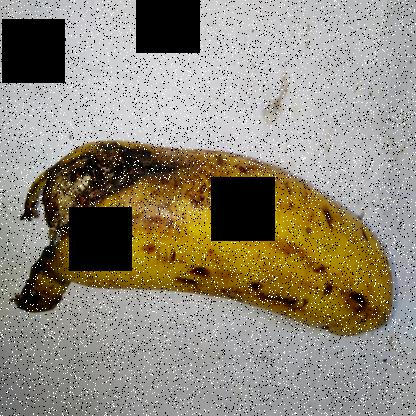ripe: (171, 122, 399, 351)
rotten: (24, 113, 189, 276)
